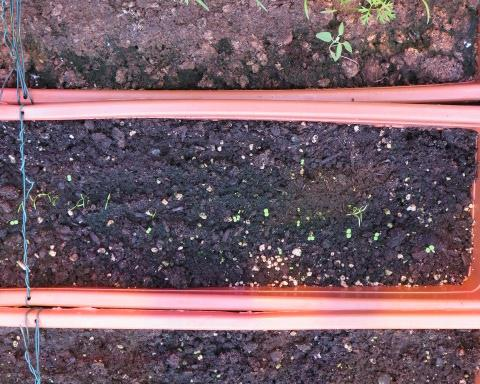weed: (422, 242, 435, 253), (343, 226, 353, 238), (260, 206, 269, 219), (370, 230, 381, 240), (141, 225, 153, 233)
